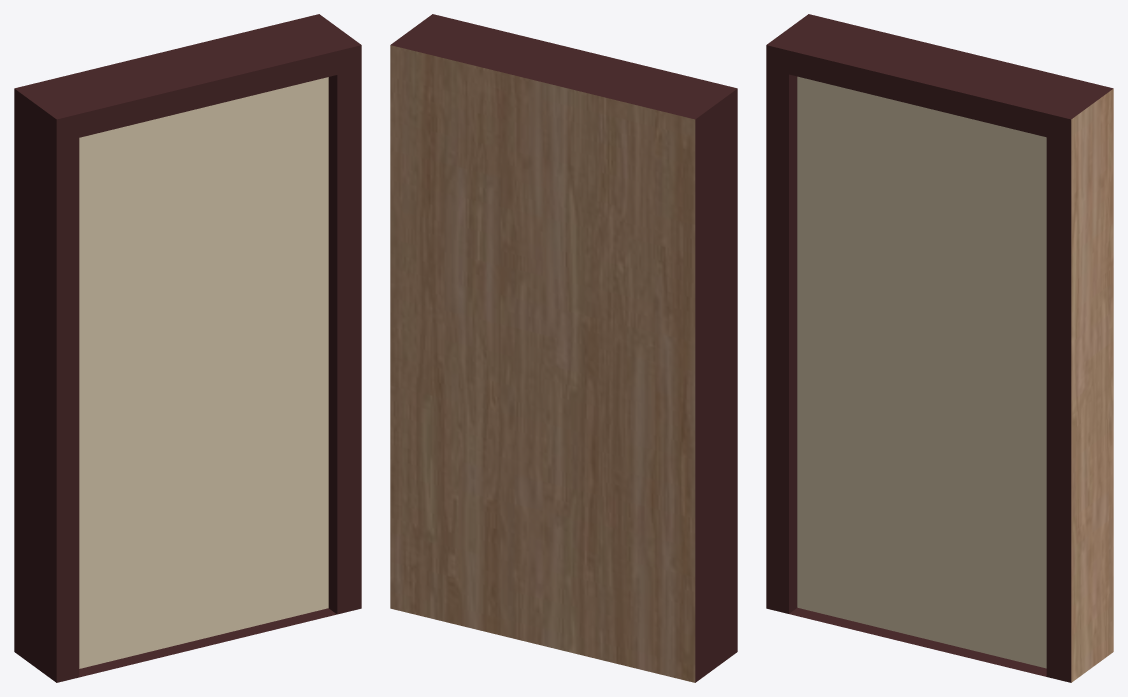
3 renders of one model, left to right at view 1: azimuth 30°, elevation 25°; view 2: azimuth 150°, elevation 25°; view 3: azimuth 330°, elevation 25°, orthographic.
Visible parts, largest first — view 1: Cube.011; view 2: Cube.011; view 3: Cube.011.
Part boxes in pixels (x1,y1,x2,y2): Cube.011: (14,14,361,682); Cube.011: (390,14,737,682); Cube.011: (766,14,1113,682).
Size of the model in its own units: 0.1698 by 0.2997 by 0.0409.
Materials: 3 (1 with a texture image).
